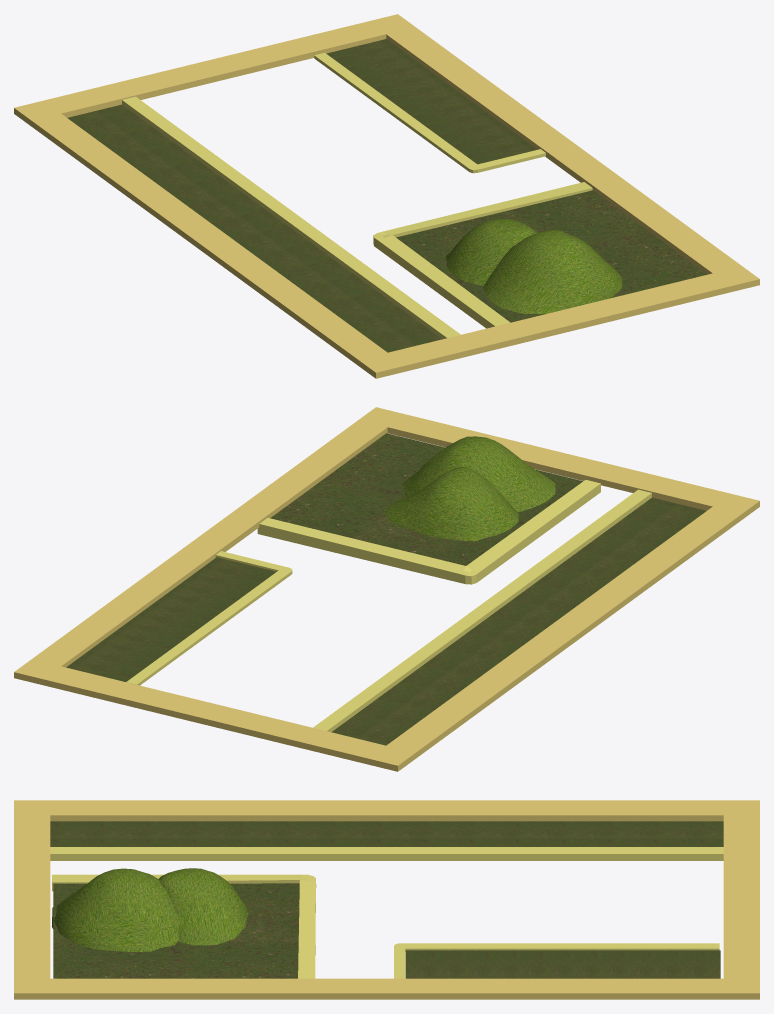
File: scence_outside.glb
The picture shows the model from 3 angles, top to bottom: view 1: azimuth 30°, elevation 25°; view 2: azimuth 150°, elevation 25°; view 3: azimuth 270°, elevation 25°; orthographic projection. The views are drawn at different scales.
Visible parts, largest first — view 1: edge.001, ground.001, ground.002, ground.003, hill.001, edge.004, edge.003, hill, edge.002; view 2: edge.001, ground.001, ground.002, ground.003, edge.003, hill, edge.004, hill.001, edge.002; view 3: edge.001, ground.001, ground.002, edge.004, ground.003, hill.001, hill, edge.003, edge.002.
Part boxes in pixels (box(x1,y1,x2,y2)): edge.001: box(14, 14, 759, 378); ground.001: box(67, 104, 441, 352); ground.002: box(396, 190, 707, 322); ground.003: box(326, 39, 536, 164); hill.001: box(483, 230, 622, 314); edge.004: box(122, 96, 460, 339); edge.003: box(373, 182, 592, 328); hill: box(445, 219, 538, 285); edge.002: box(314, 52, 545, 173); edge.001: box(14, 407, 759, 771); ground.001: box(332, 497, 706, 745); ground.002: box(270, 433, 582, 565); ground.003: box(66, 557, 276, 681); edge.003: box(257, 480, 600, 584); hill: box(384, 466, 518, 541); edge.004: box(313, 489, 651, 732); hill.001: box(402, 436, 555, 511); edge.002: box(126, 551, 292, 685); edge.001: box(14, 800, 759, 999); ground.001: box(50, 821, 723, 846); ground.002: box(53, 883, 299, 978); edge.004: box(50, 847, 723, 860); ground.003: box(405, 950, 720, 978); hill.001: box(52, 868, 180, 951); hill: box(158, 868, 247, 945); edge.003: box(52, 874, 316, 978); edge.002: box(394, 943, 719, 978).
Size of the model in its own units: 12.4 by 1.7 by 20.25.
Materials: 6 (4 with a texture image).
